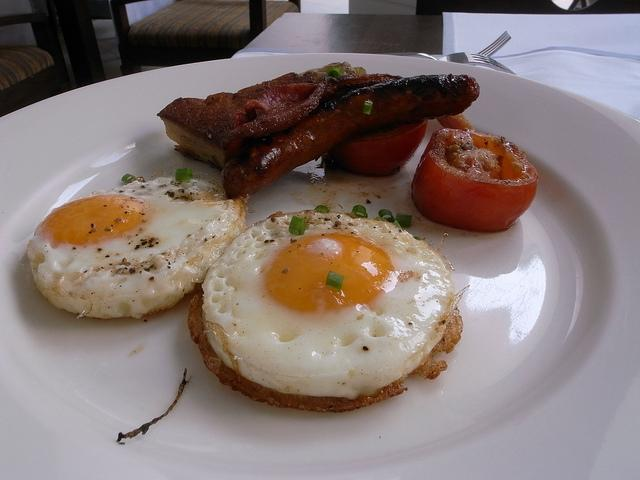tomato: (412, 129, 538, 230), (328, 121, 428, 177)
